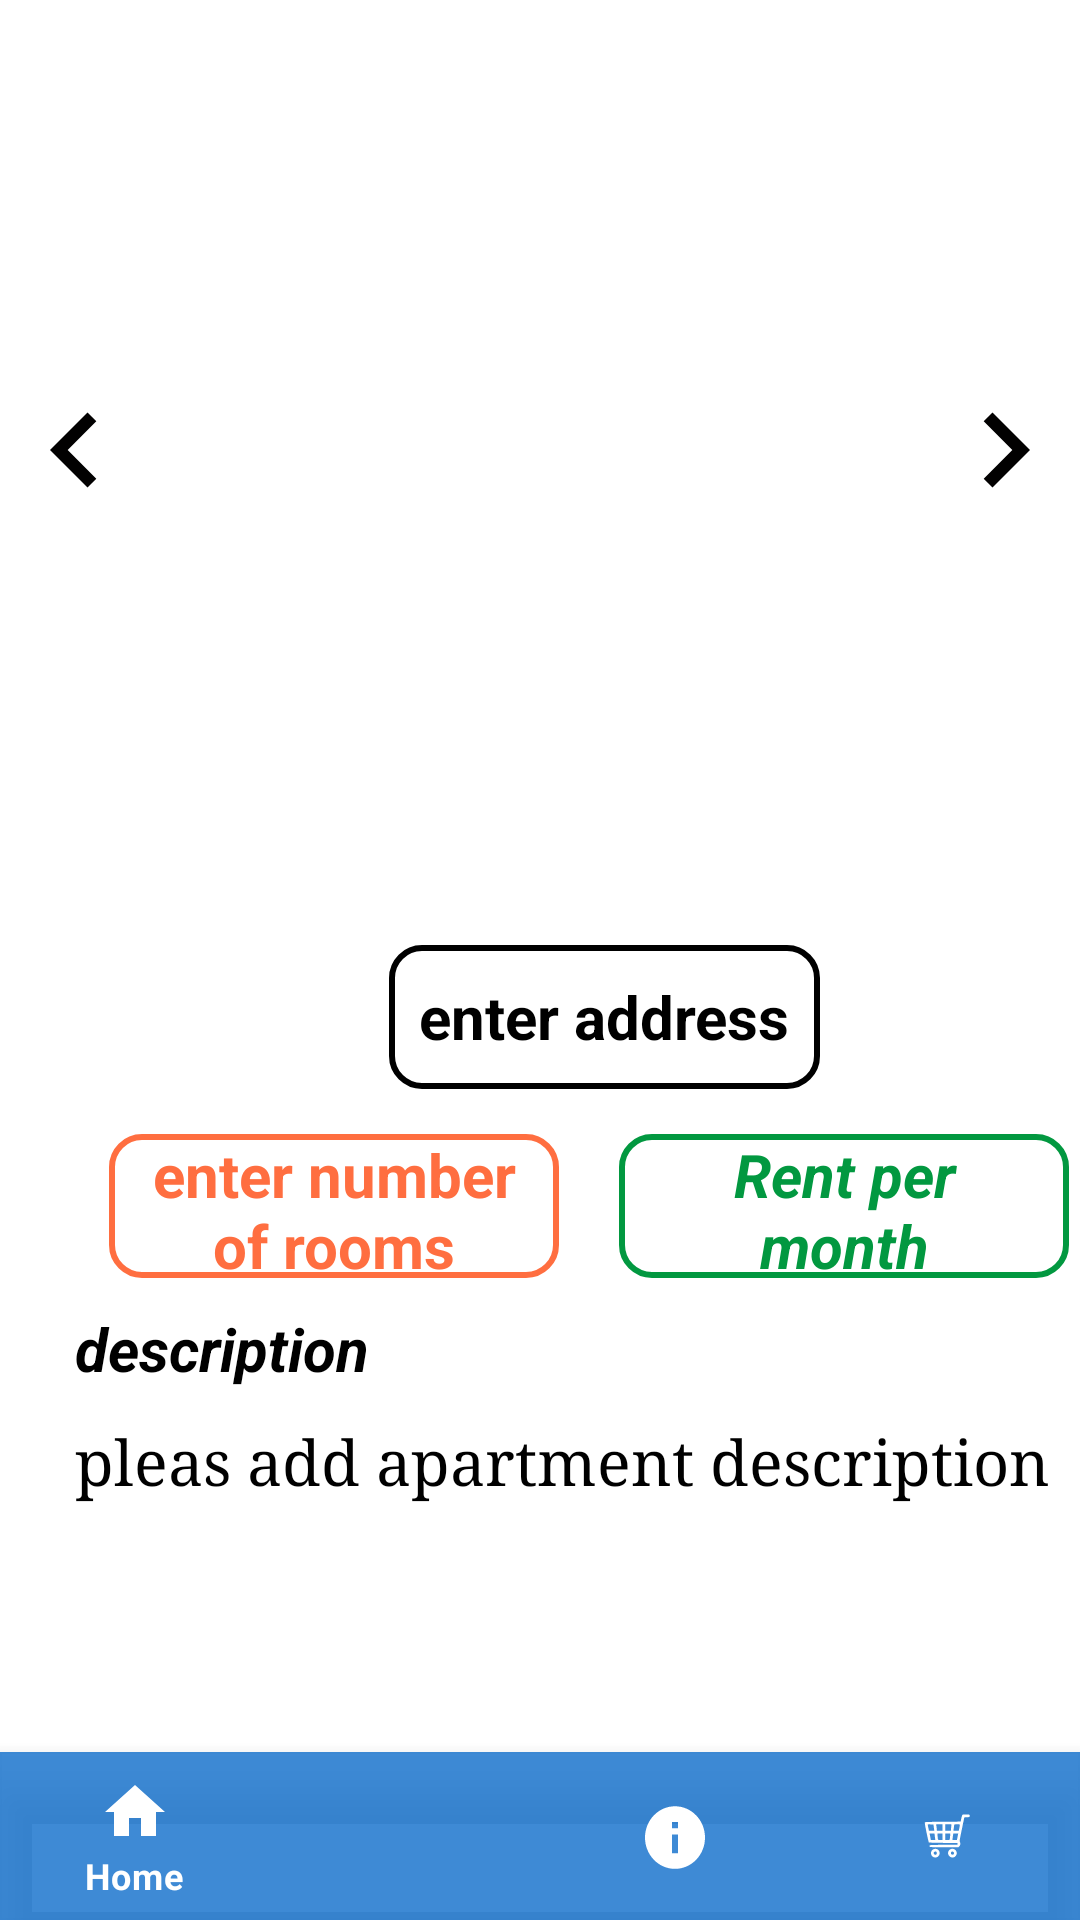

Icon bounding boxes for this 1080w x 1920h phone screenshot, format (x1, y1, x2, y2):
next: (984, 412, 1030, 488)
pre: (50, 412, 96, 488)
